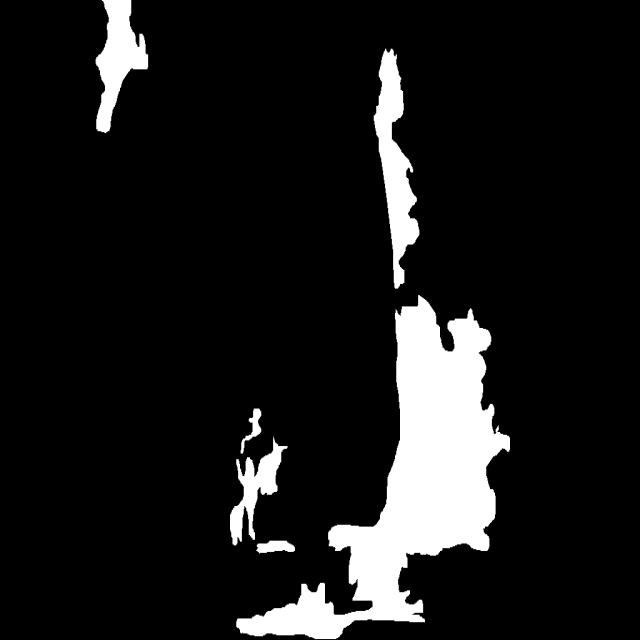fire: (376, 46, 558, 634), (54, 7, 162, 151)
